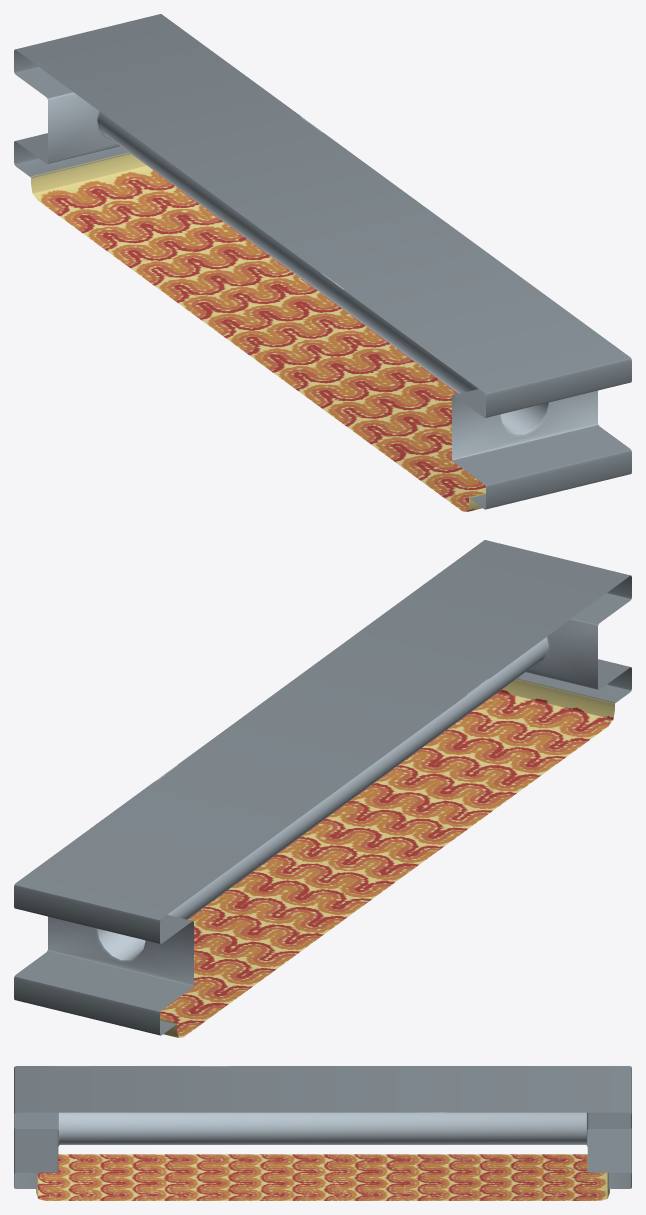
File: SM_WallExterior_50x50.fbx
3 views of the same model, one above another, from view 1: azimuth 30°, elevation 25°; view 2: azimuth 150°, elevation 25°; view 3: azimuth 270°, elevation 25° (orthographic). The views are drawn at different scales.
Visible parts, largest first — view 1: SM_WallExterior_50x50; view 2: SM_WallExterior_50x50; view 3: SM_WallExterior_50x50.
Part boxes in pixels (x1,y1,x2,y2): SM_WallExterior_50x50: [14, 14, 631, 511]; SM_WallExterior_50x50: [14, 540, 631, 1037]; SM_WallExterior_50x50: [14, 1066, 631, 1200].
Bounding box in the file's own units: 50 × 280 × 44.03.
1 material, 1 textured.
